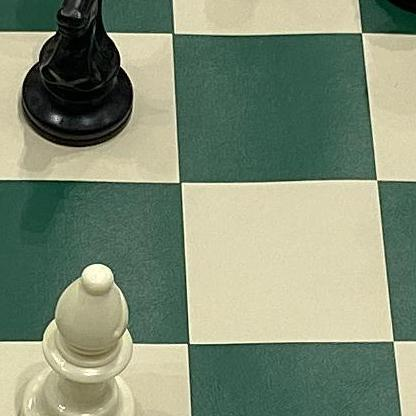black-knight: (0, 0, 155, 151)
white-bishop: (11, 256, 147, 416)
